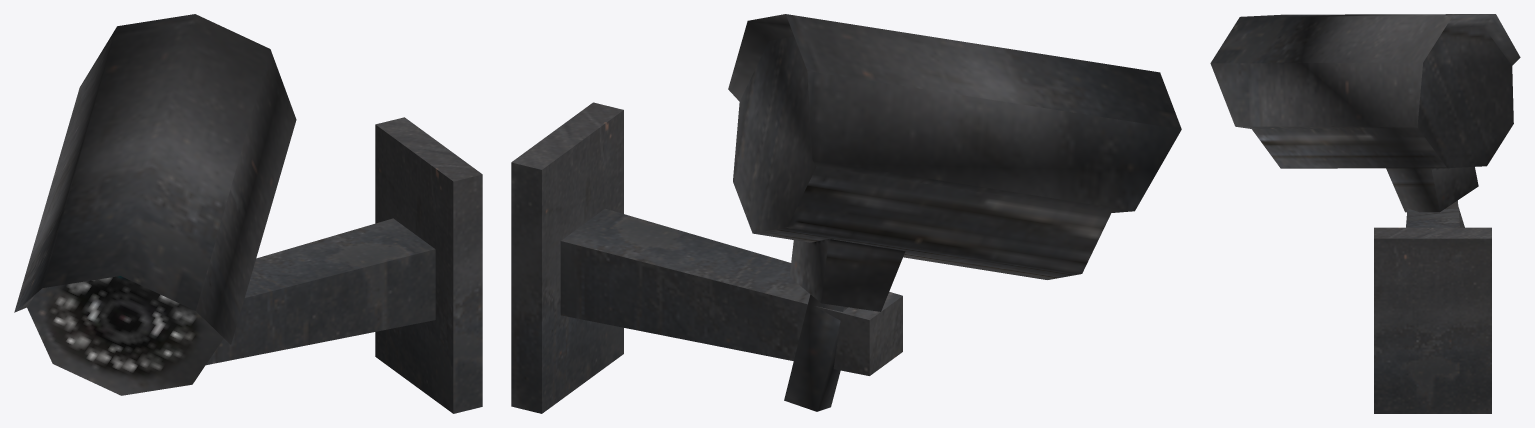
The model's file is camera_2.glb.
3 renders of one model, left to right at view 1: azimuth 30°, elevation 25°; view 2: azimuth 150°, elevation 25°; view 3: azimuth 270°, elevation 25°, orthographic. The views are drawn at different scales.
Visible parts, largest first — view 1: Camera.001_Camera_0.001; view 2: Camera.001_Camera_0.001; view 3: Camera.001_Camera_0.001.
Boxes of the visible parts, <box> form: Camera.001_Camera_0.001: <box>14,14,482,413</box>; Camera.001_Camera_0.001: <box>511,14,1181,413</box>; Camera.001_Camera_0.001: <box>1210,14,1520,413</box>.
Bounding box in the file's own units: 0.5142 × 0.4046 × 0.3656.
1 material, 1 textured.
